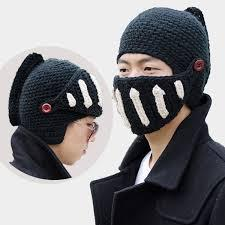NONE: (51, 113, 99, 166)
OK: (112, 57, 183, 130)
